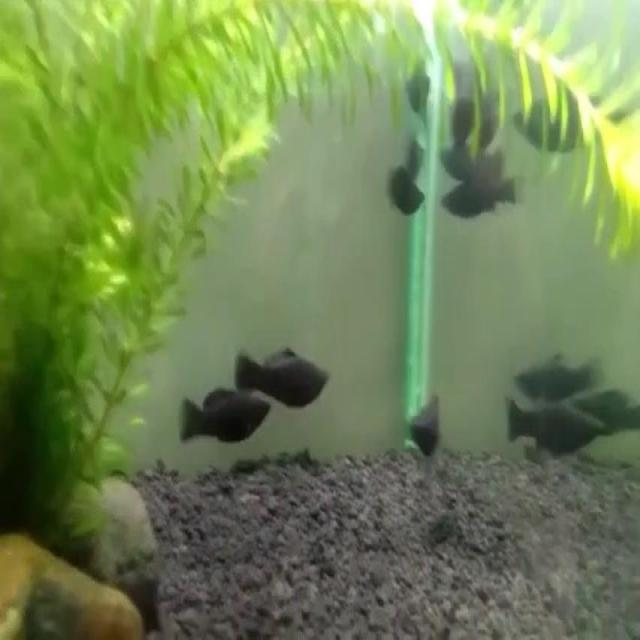PlatyFish: (230, 337, 342, 414), (175, 380, 275, 463)
